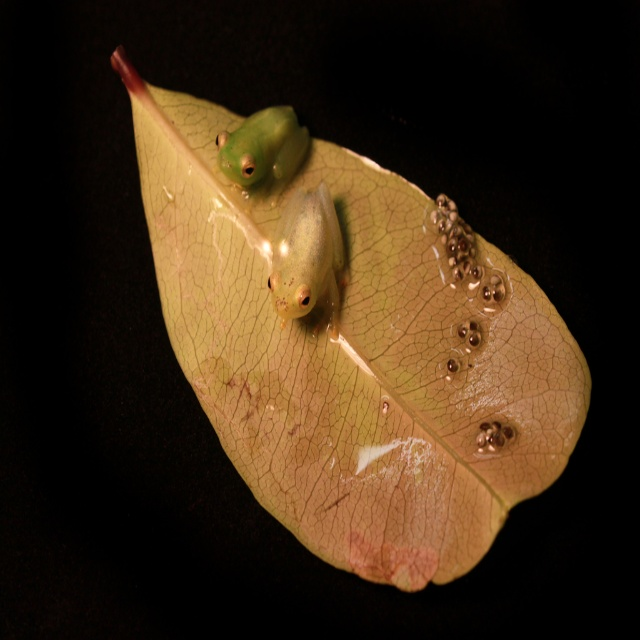Frog: (266, 175, 350, 339), (211, 101, 316, 195)
